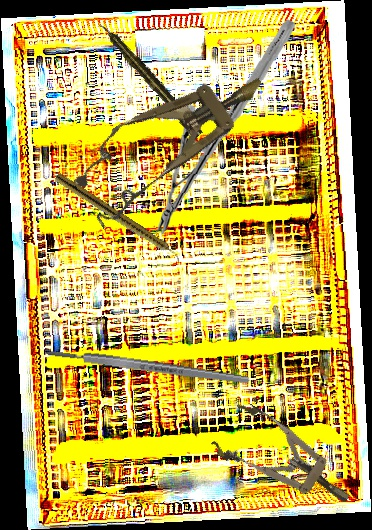Handpiece: (95, 18, 205, 141), (52, 172, 185, 264)
Needle Holder: (154, 12, 296, 242)
Scalpel Handle: (44, 346, 252, 387)
Speculum: (60, 47, 283, 231), (207, 397, 364, 526)
